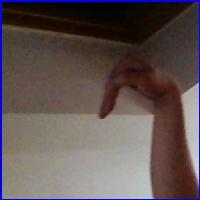del: (98, 42, 175, 129)
